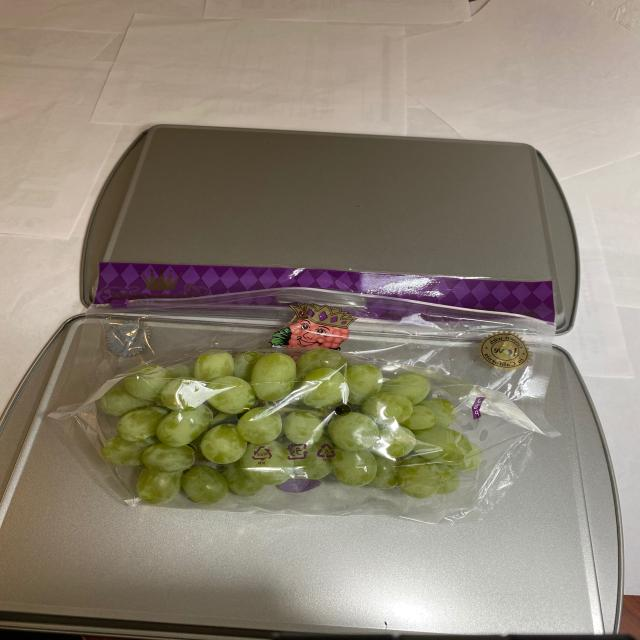grapes: (86, 356, 512, 506)
